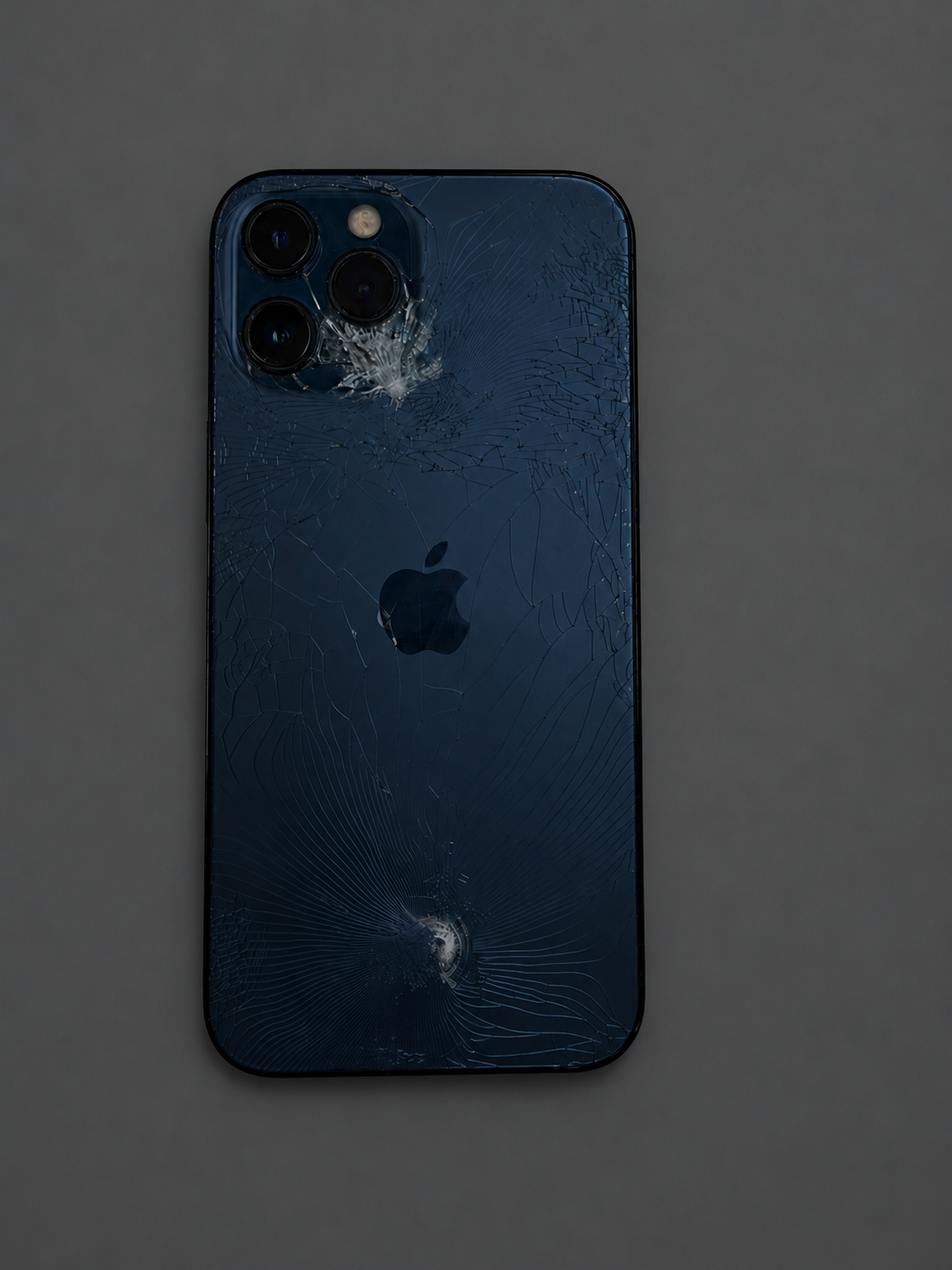iphone_12_pro_max_Crack: (142, 112, 687, 1126)
